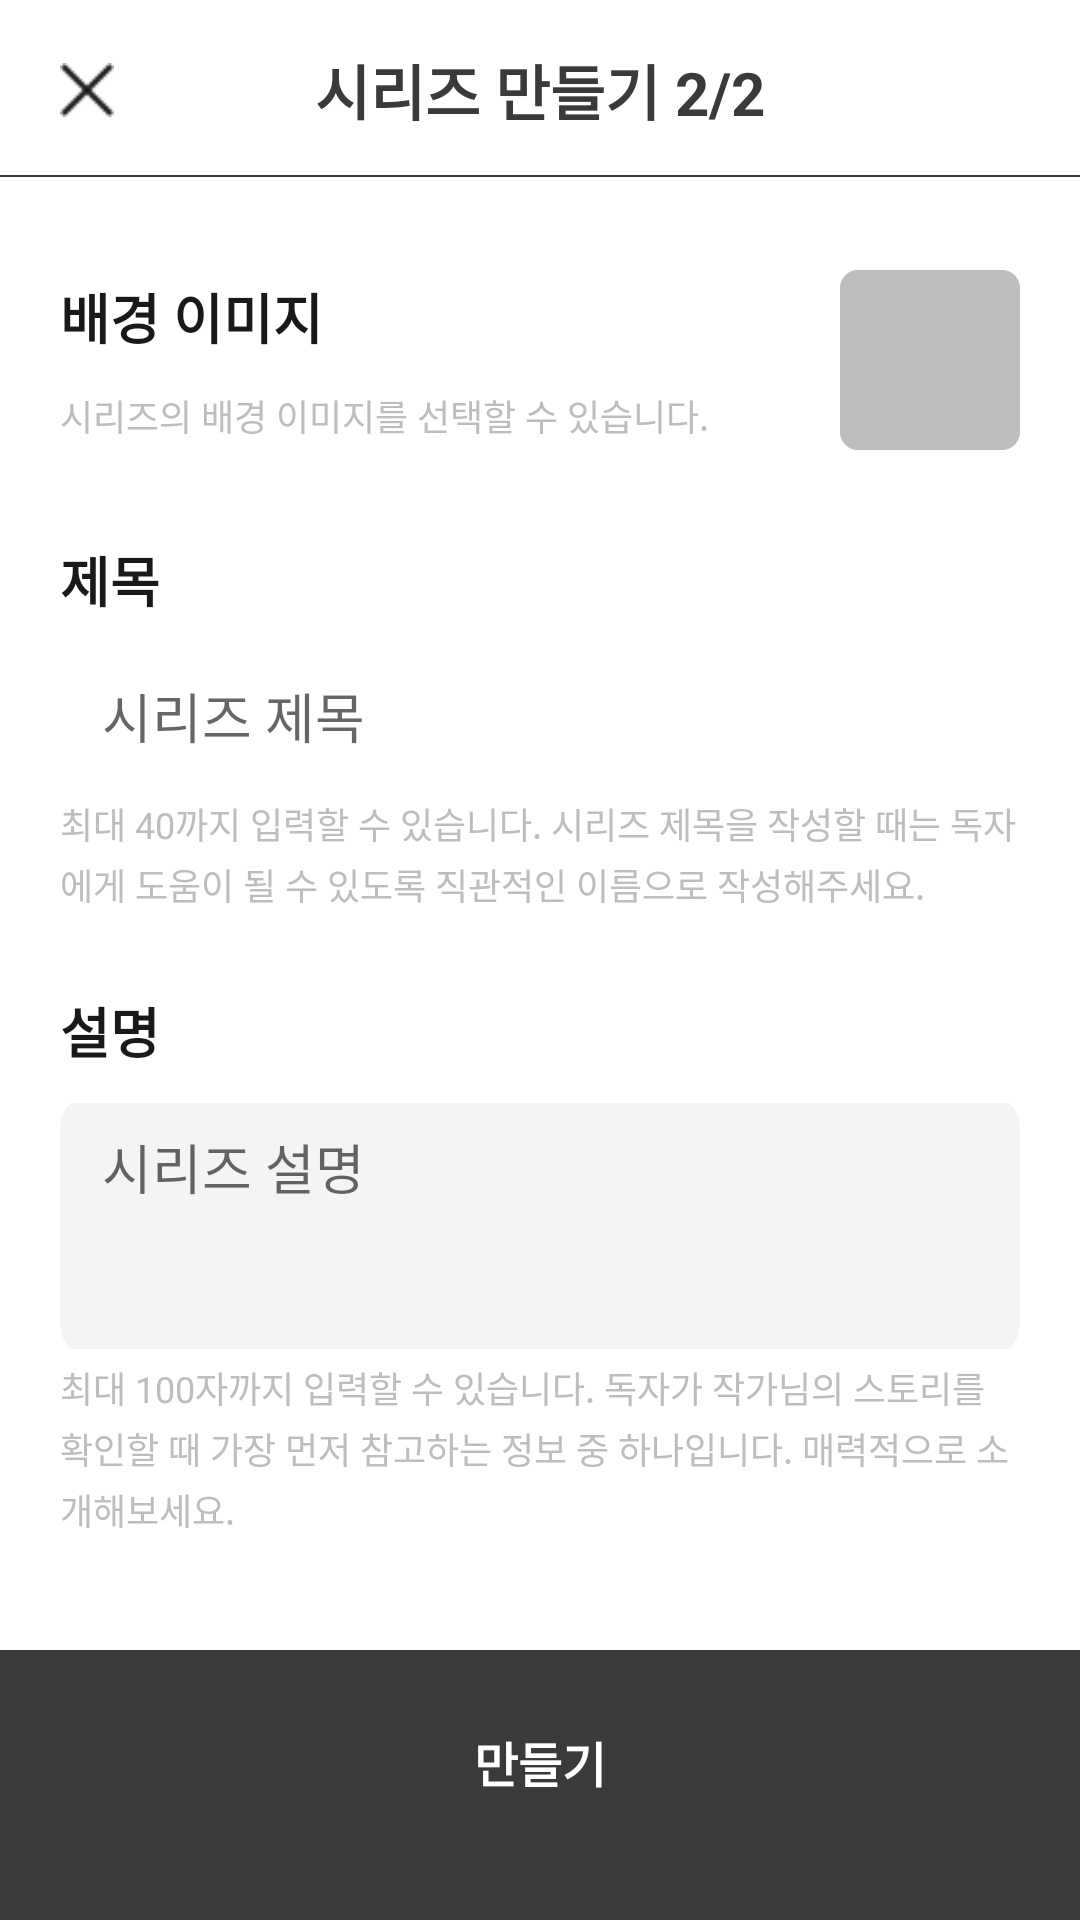

Screen size 1080px x 1920px. Icon name, then its center in pixels as (x,y):
close: (87,90)
